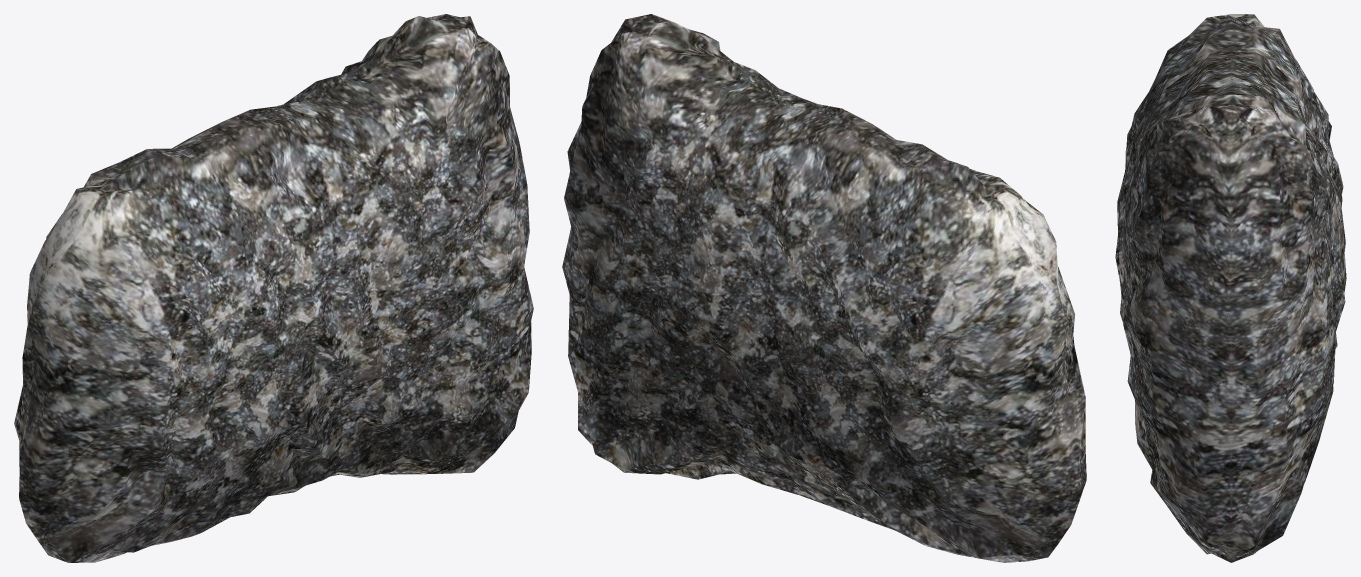
File: Gabbro.fbx
3 renders of one model, left to right at view 1: azimuth 30°, elevation 25°; view 2: azimuth 150°, elevation 25°; view 3: azimuth 270°, elevation 25°, orthographic.
Visible parts, largest first — view 1: Gabbro; view 2: Gabbro; view 3: Gabbro.
Part boxes in pixels (x1,y1,x2,y2): Gabbro: (14, 14, 533, 562); Gabbro: (562, 14, 1086, 562); Gabbro: (1115, 14, 1346, 562).
Size of the model in its own units: 249 by 215 by 98.36.
